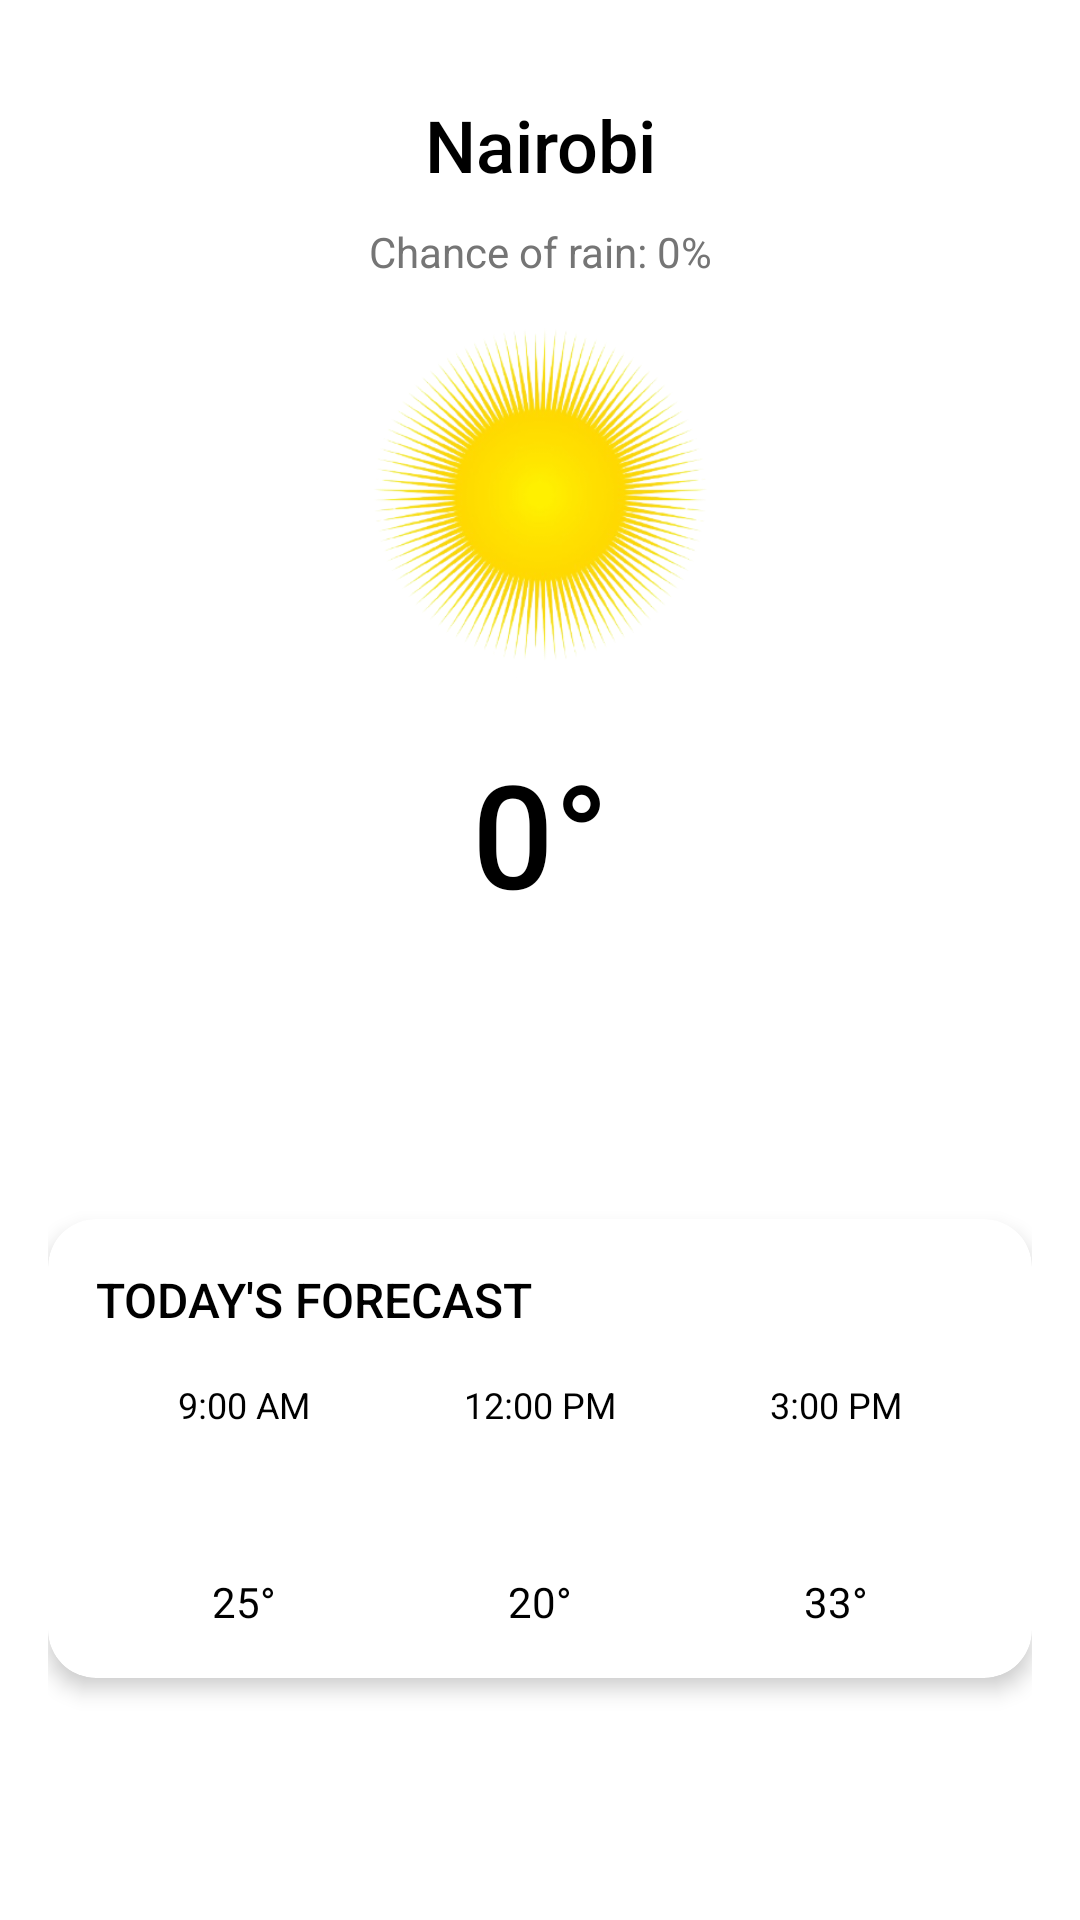

Icons on this 1080px x 1920px Android screen, each with the point to tap as [x,y]:
Weather Icon: [540,495]
